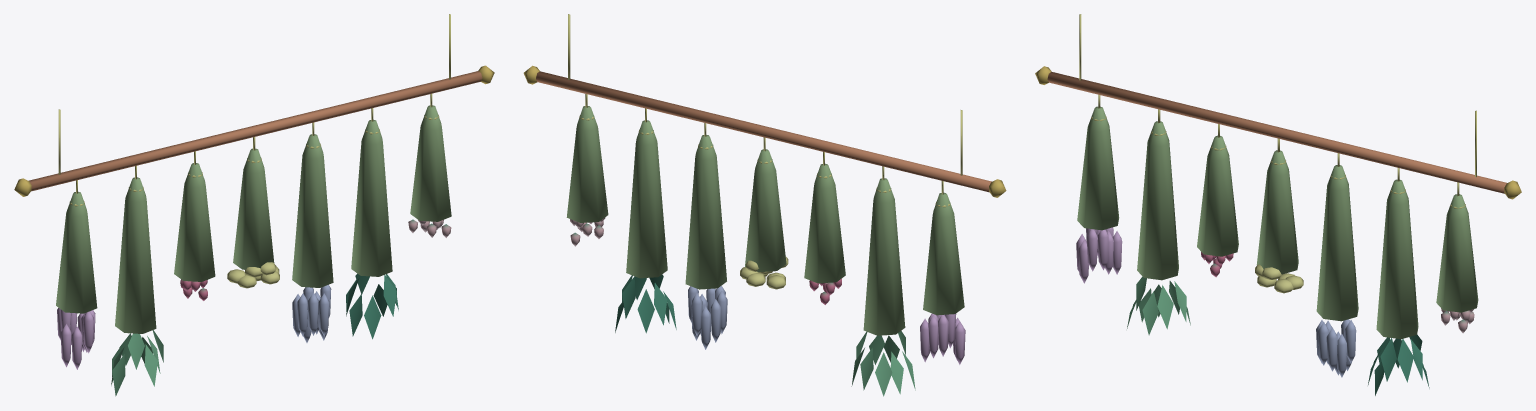
The model's file is potion_herb_rack.glb.
3 renders of one model, left to right at view 1: azimuth 30°, elevation 25°; view 2: azimuth 150°, elevation 25°; view 3: azimuth 330°, elevation 25°, orthographic.
Visible parts, largest first — view 1: potion_herb_rack; view 2: potion_herb_rack; view 3: potion_herb_rack.
Part boxes in pixels (box(x1,y1,x2,y2)): potion_herb_rack: box(14, 14, 494, 396); potion_herb_rack: box(523, 14, 1006, 396); potion_herb_rack: box(1035, 14, 1521, 395).
Size of what is drawn, in the model's own units: 1.6 by 0.947 by 0.182.
